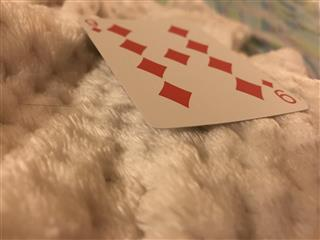NineOfDiamonds: (76, 15, 308, 130)
